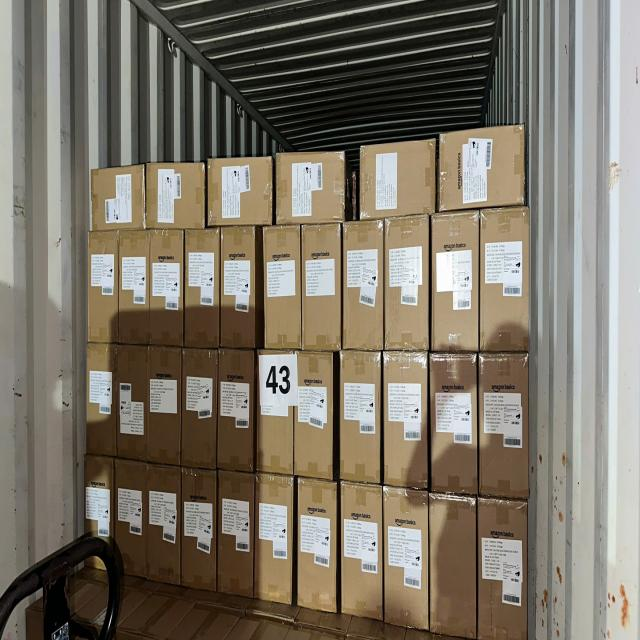Carton: (478, 356, 530, 500), (480, 209, 530, 354), (439, 125, 526, 208), (479, 499, 528, 640), (428, 494, 475, 638), (429, 356, 476, 495), (432, 217, 478, 355), (381, 492, 426, 633), (381, 348, 425, 488), (357, 142, 434, 222), (383, 218, 427, 351), (340, 488, 383, 624), (341, 350, 382, 483), (343, 224, 384, 354), (300, 226, 341, 353), (296, 484, 336, 614), (276, 154, 346, 228), (294, 350, 332, 478), (257, 472, 295, 600), (258, 347, 297, 471), (264, 228, 302, 350), (207, 158, 273, 228), (220, 229, 258, 350), (216, 348, 253, 468), (217, 471, 252, 596), (183, 471, 219, 591), (184, 347, 220, 466), (186, 232, 222, 349), (149, 162, 208, 230), (147, 344, 181, 461), (147, 466, 180, 584), (149, 230, 182, 347), (117, 459, 149, 578), (84, 344, 117, 458), (117, 233, 150, 346), (91, 168, 146, 232), (85, 230, 116, 343), (118, 344, 148, 460), (81, 457, 112, 542)
